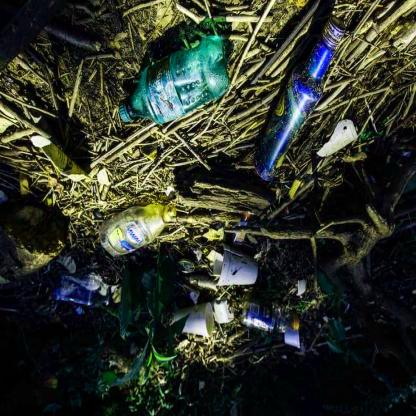Glass: (255, 20, 346, 182)
Metal: (239, 302, 286, 342)
Plastic: (120, 28, 232, 136), (94, 198, 181, 268), (205, 246, 260, 295), (44, 278, 122, 310), (167, 306, 214, 353), (281, 325, 306, 354), (212, 299, 235, 330)
